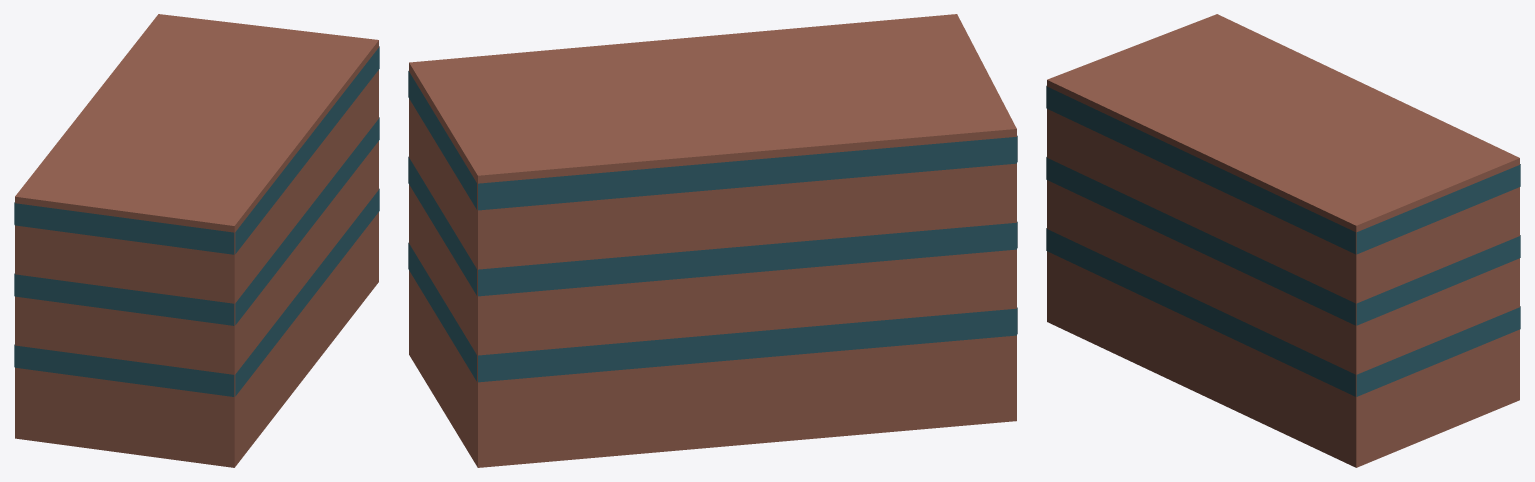
The model's file is city_-3_-8.glb.
The picture shows the model from 3 angles, left to right: view 1: azimuth 30°, elevation 25°; view 2: azimuth 150°, elevation 25°; view 3: azimuth 270°, elevation 25°; orthographic projection. The views are drawn at different scales.
Parts seen in each view (by area): view 1: city_-3_-8; view 2: city_-3_-8; view 3: city_-3_-8.
Boxes of the visible parts, <box> form: city_-3_-8: <box>14,14,379,467</box>; city_-3_-8: <box>408,14,1017,467</box>; city_-3_-8: <box>1046,14,1520,467</box>.
Bounding box in the file's own units: 25.57 × 13.6 × 24.14.
